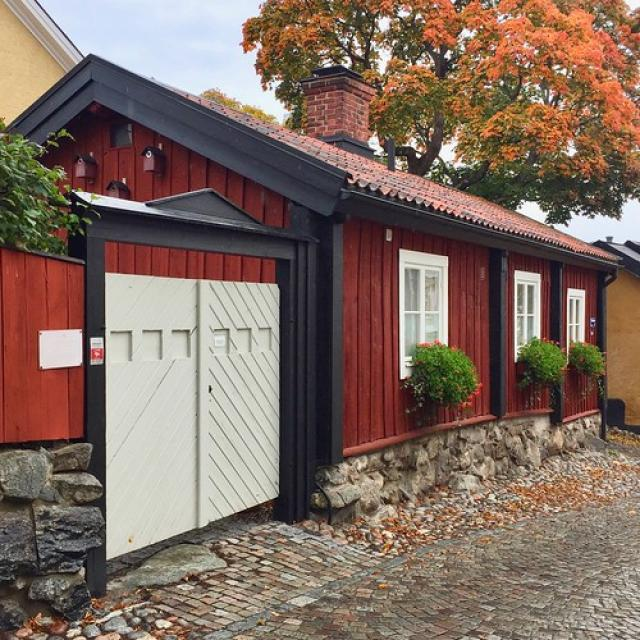Normal_building: (4, 51, 626, 574)
